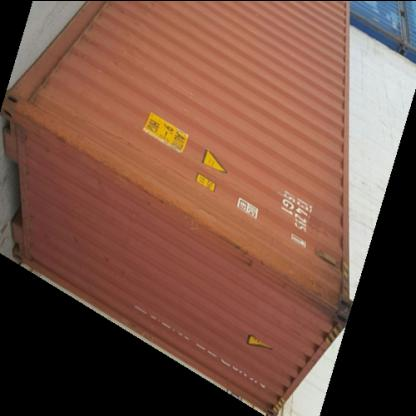Damage: (22, 103, 166, 195), (167, 186, 290, 273), (263, 265, 358, 317)
